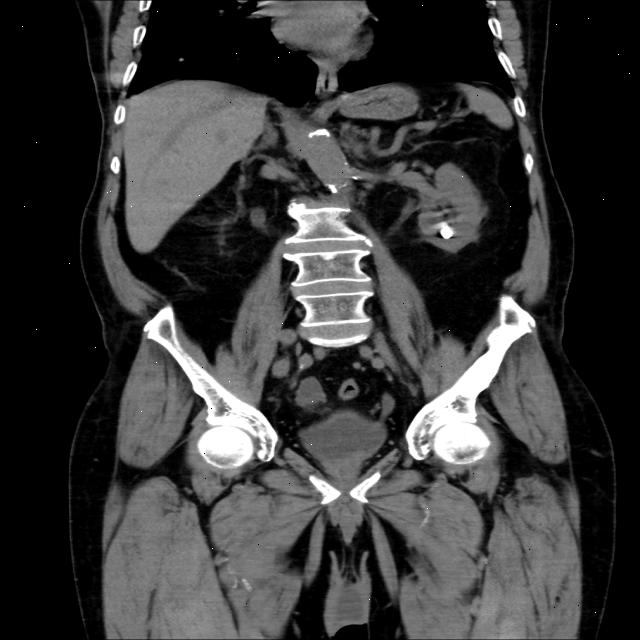kidneystone: (439, 222, 454, 239)
